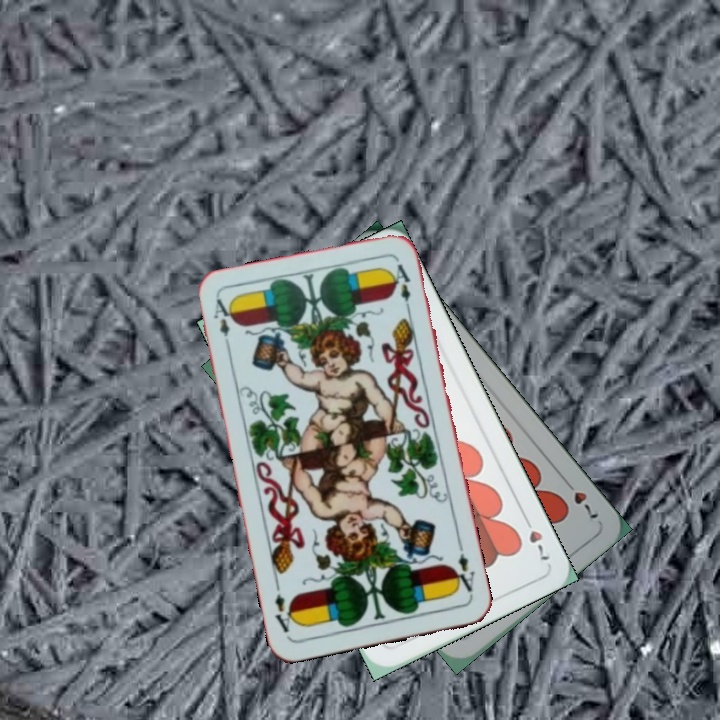EA: (209, 294, 236, 352), (449, 549, 478, 599)
H7: (559, 475, 601, 522), (518, 510, 553, 563)
